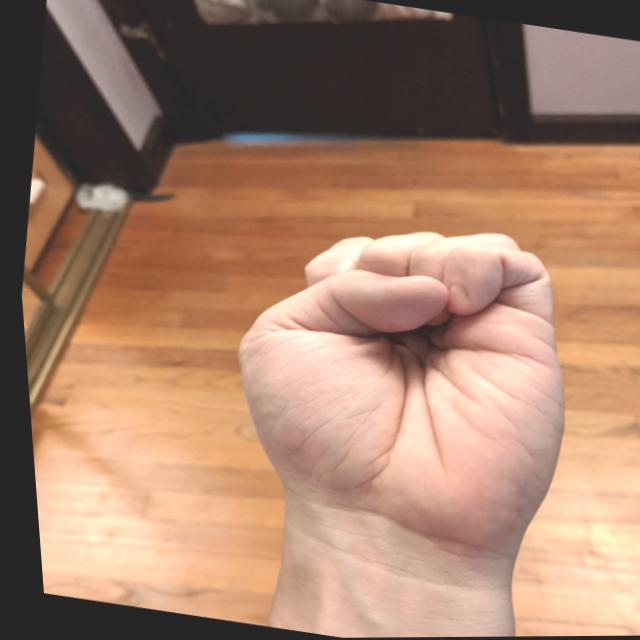E: (186, 189, 611, 585)
